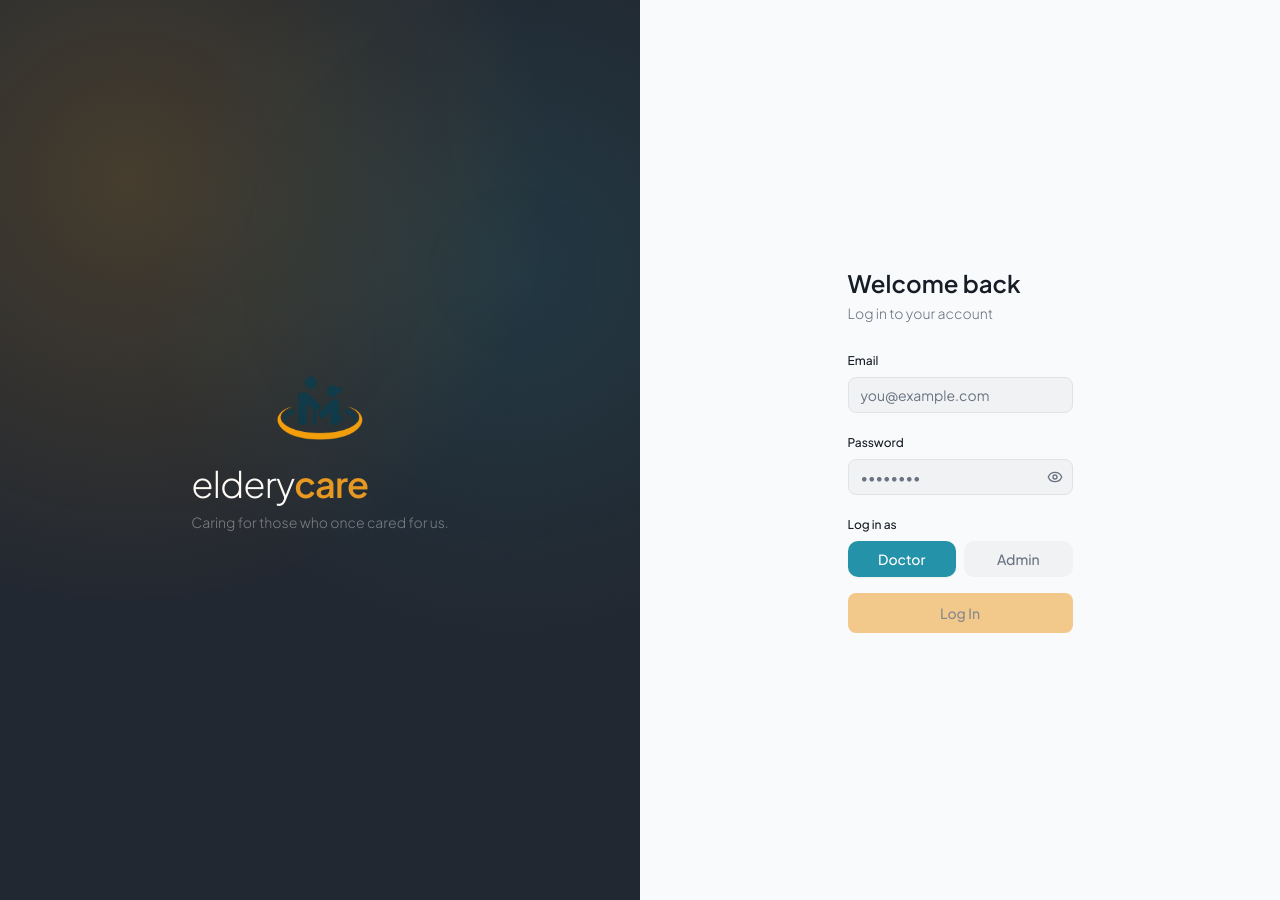
Test: Login screen › shows validation feedback when email is invalid and touched
Type "not-an-email" into the field labelled "Email" at (960, 395), box [848, 377, 1072, 413]
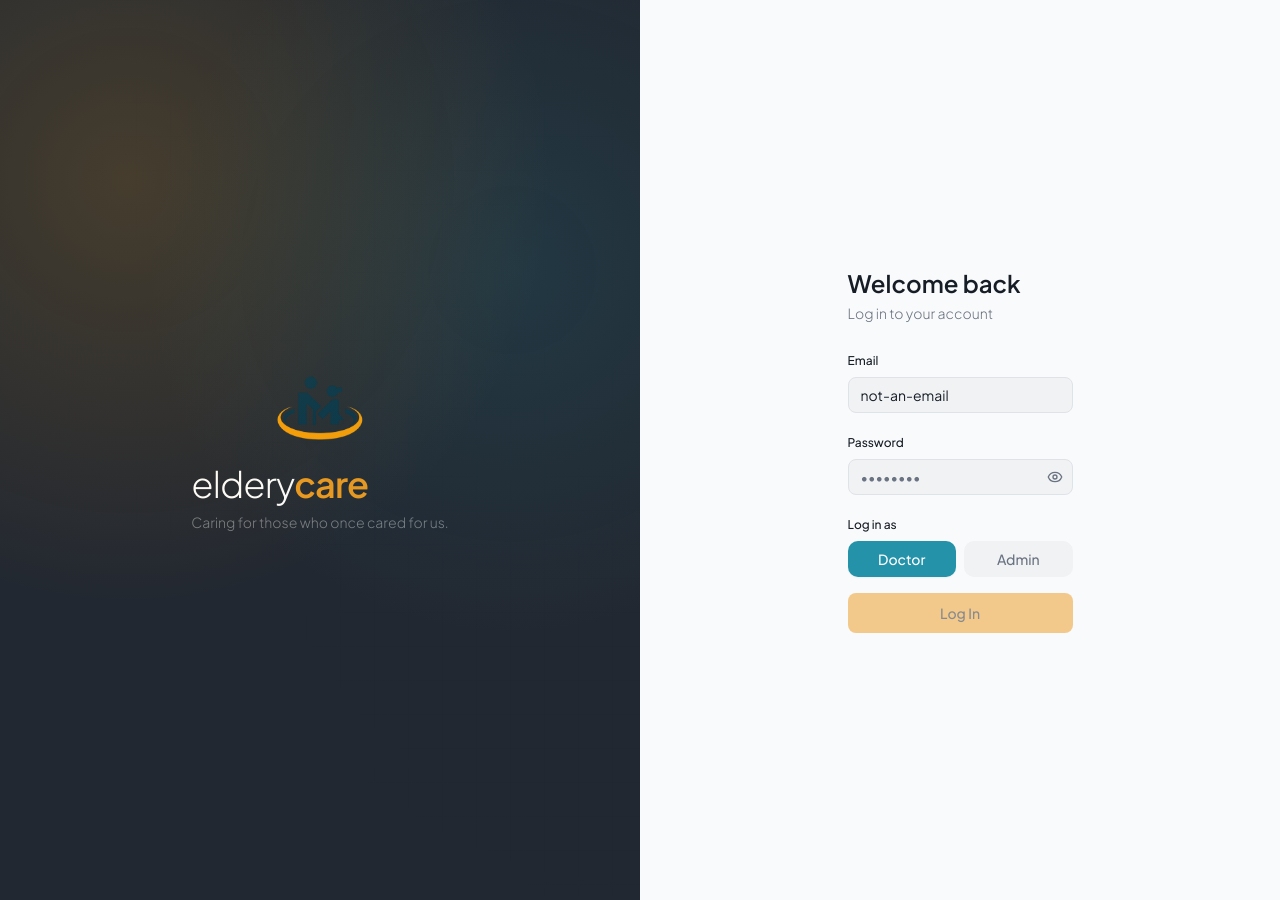
Leave the field labelled "Email", box [848, 377, 1072, 413]
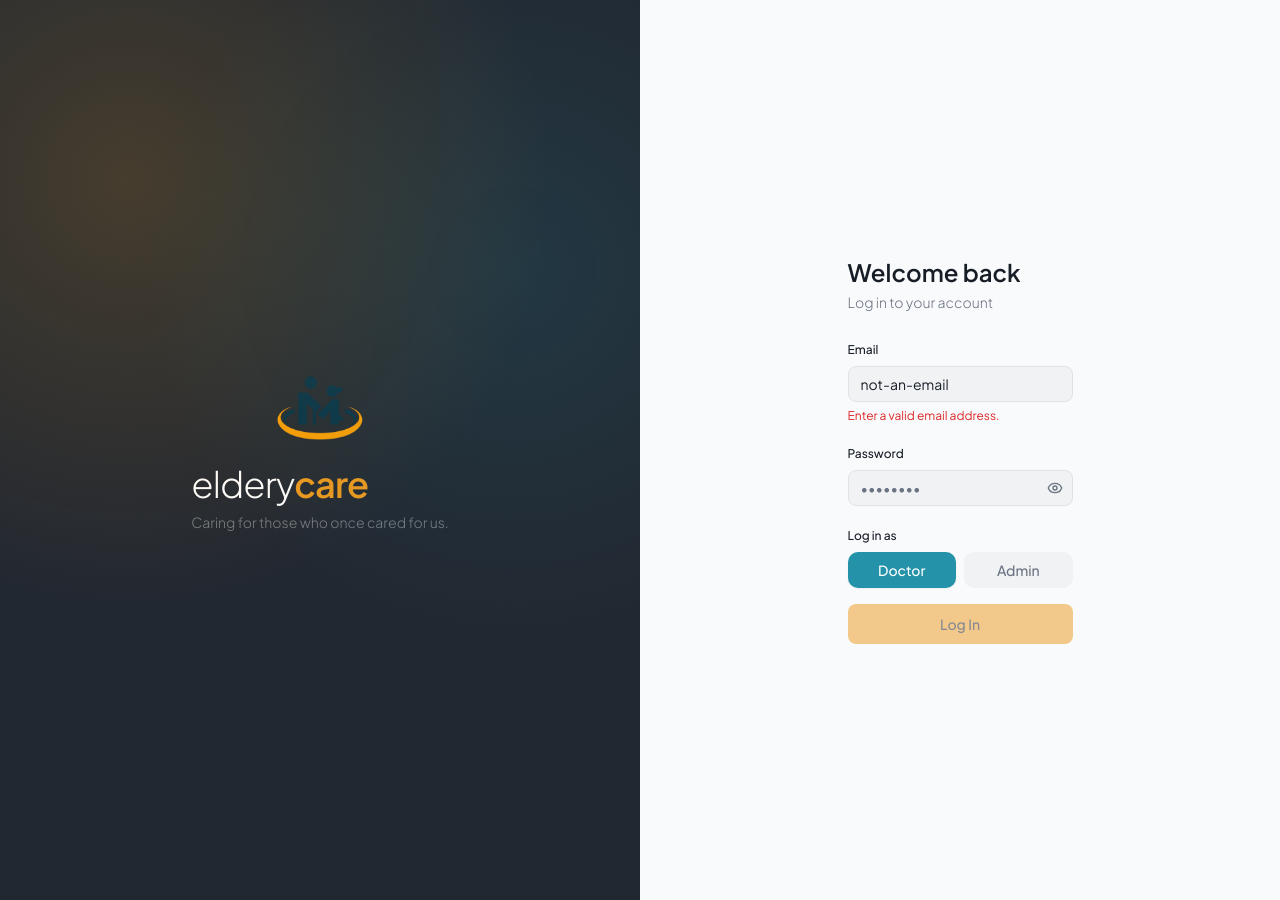
Check: the text "Enter a valid email address." is shown, box [848, 408, 1000, 423]
